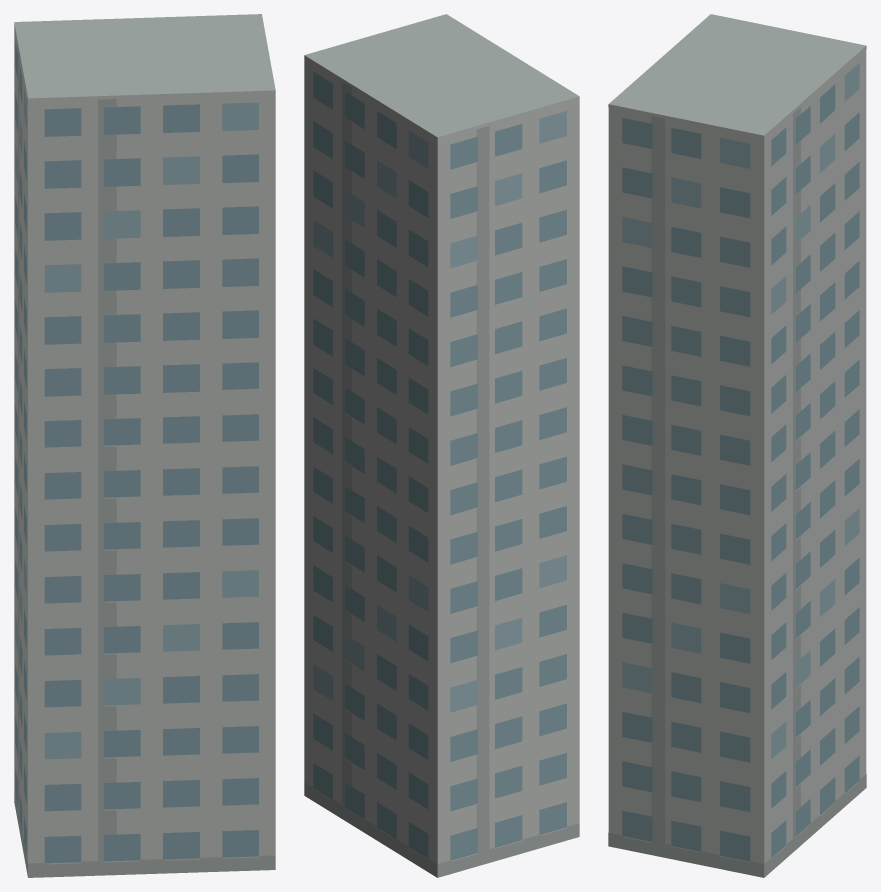
The model's file is residential-c919e795-4d60-4852-9306-ff49a034ca6e.glb.
3 renders of one model, left to right at view 1: azimuth 30°, elevation 25°; view 2: azimuth 150°, elevation 25°; view 3: azimuth 270°, elevation 25°, orthographic. The views are drawn at different scales.
Parts seen in each view (by area): view 1: residential-c919e795-4d60-4852-9306-ff49a034ca6e.tmp; view 2: residential-c919e795-4d60-4852-9306-ff49a034ca6e.tmp; view 3: residential-c919e795-4d60-4852-9306-ff49a034ca6e.tmp.
Boxes of the visible parts, <box> form: residential-c919e795-4d60-4852-9306-ff49a034ca6e.tmp: <box>14,14,275,877</box>; residential-c919e795-4d60-4852-9306-ff49a034ca6e.tmp: <box>304,14,579,877</box>; residential-c919e795-4d60-4852-9306-ff49a034ca6e.tmp: <box>608,14,866,877</box>.
Bounding box in the file's own units: 19.35 × 55 × 17.33.
